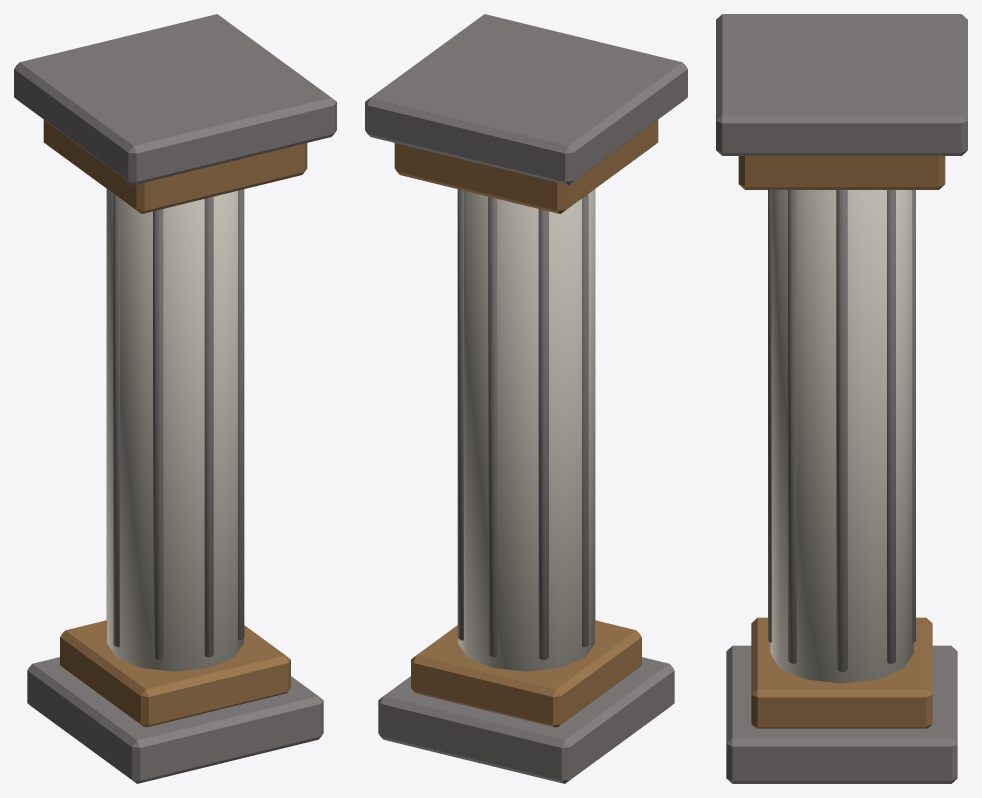
The model's file is column.glb.
3 renders of one model, left to right at view 1: azimuth 30°, elevation 25°; view 2: azimuth 150°, elevation 25°; view 3: azimuth 270°, elevation 25°, orthographic. The views are drawn at different scales.
Visible parts, largest first — view 1: COLUMN__shaft, COLUMN__abacus, COLUMN__plinth, COLUMN__base, COLUMN__capital, COLUMN__flute.006, COLUMN__flute.007, COLUMN__flute.005, COLUMN__flute; view 2: COLUMN__shaft, COLUMN__abacus, COLUMN__plinth, COLUMN__base, COLUMN__capital, COLUMN__flute.004, COLUMN__flute.003, COLUMN__flute.005, COLUMN__flute.002; view 3: COLUMN__shaft, COLUMN__abacus, COLUMN__plinth, COLUMN__base, COLUMN__capital, COLUMN__flute.001, COLUMN__flute.002, COLUMN__flute, COLUMN__flute.003, COLUMN__flute.007.
Part boxes in pixels (<box>): COLUMN__shaft: <box>107,189,243,671</box>; COLUMN__abacus: <box>14,14,336,185</box>; COLUMN__plinth: <box>27,657,323,783</box>; COLUMN__base: <box>60,620,290,727</box>; COLUMN__capital: <box>43,120,307,213</box>; COLUMN__flute.006: <box>153,209,163,660</box>; COLUMN__flute.007: <box>204,196,213,657</box>; COLUMN__flute.005: <box>113,194,119,647</box>; COLUMN__flute: <box>238,189,244,640</box>; COLUMN__shaft: <box>458,189,594,671</box>; COLUMN__abacus: <box>365,14,687,185</box>; COLUMN__plinth: <box>378,657,674,783</box>; COLUMN__base: <box>411,620,641,727</box>; COLUMN__capital: <box>394,120,658,213</box>; COLUMN__flute.004: <box>538,209,548,660</box>; COLUMN__flute.003: <box>488,196,497,657</box>; COLUMN__flute.005: <box>582,194,588,647</box>; COLUMN__flute.002: <box>457,189,463,640</box>; COLUMN__shaft: <box>770,190,913,683</box>; COLUMN__abacus: <box>716,14,967,155</box>; COLUMN__plinth: <box>726,645,957,783</box>; COLUMN__base: <box>751,617,932,728</box>; COLUMN__capital: <box>738,156,945,189</box>; COLUMN__flute.001: <box>836,190,847,672</box>; COLUMN__flute.002: <box>887,190,895,663</box>; COLUMN__flute: <box>788,190,796,663</box>; COLUMN__flute.003: <box>912,190,915,642</box>; COLUMN__flute.007: <box>768,190,771,642</box>.
Bounding box in the file's own units: 1 × 2.95 × 1.
